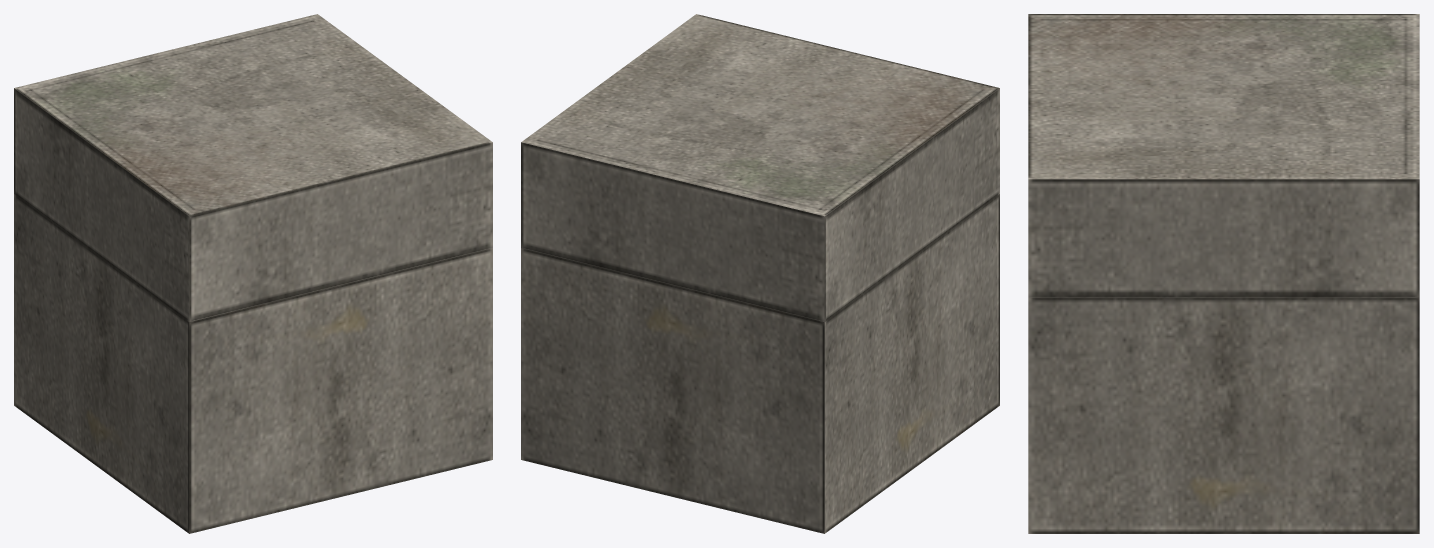
The model's file is concretebase_3x3.fbx.
3 views of the same model, side by side, from view 1: azimuth 30°, elevation 25°; view 2: azimuth 150°, elevation 25°; view 3: azimuth 270°, elevation 25° (orthographic). The views are drawn at different scales.
Visible parts, largest first — view 1: ConcreteBase_3x3; view 2: ConcreteBase_3x3; view 3: ConcreteBase_3x3.
Part boxes in pixels (x1,y1,x2,y2): ConcreteBase_3x3: (14, 14, 492, 533); ConcreteBase_3x3: (521, 14, 999, 533); ConcreteBase_3x3: (1028, 14, 1419, 533).
Bounding box in the file's own units: 300 × 300 × 300.
